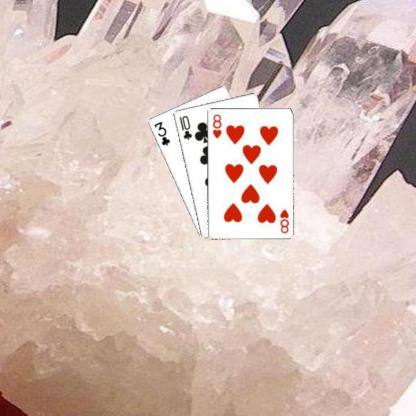10C: (177, 113, 193, 141)
3C: (151, 118, 171, 147)
8H: (210, 112, 222, 139), (278, 207, 289, 234)
